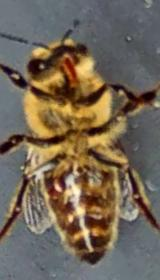varroa_mite: (42, 165, 73, 201)
